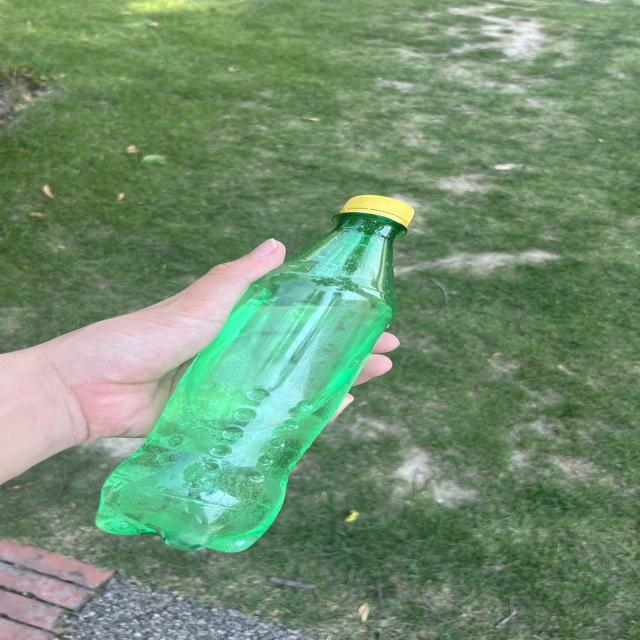medium: (96, 195, 413, 552)
